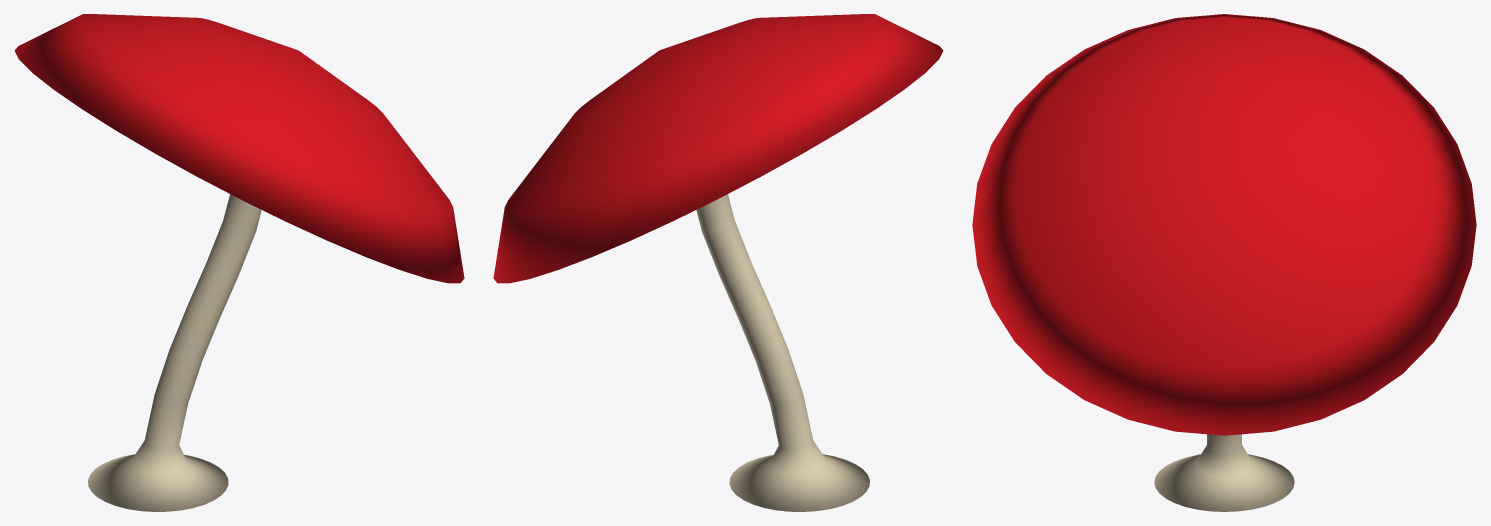
The model's file is champi25.fbx.
3 renders of one model, left to right at view 1: azimuth 30°, elevation 25°; view 2: azimuth 150°, elevation 25°; view 3: azimuth 270°, elevation 25°, orthographic.
Parts seen in each view (by area): view 1: Cylinder_001; view 2: Cylinder_001; view 3: Cylinder_001.
Boxes of the visible parts, bbox=[...] form: Cylinder_001: bbox=[14, 14, 464, 511]; Cylinder_001: bbox=[493, 14, 943, 511]; Cylinder_001: bbox=[972, 14, 1476, 511].
Bounding box in the file's own units: 122 × 139 × 144.
